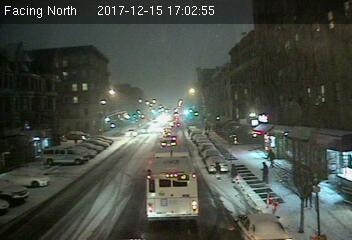bus: (146, 147, 201, 222)
car: (237, 211, 291, 240), (205, 155, 231, 173), (159, 139, 178, 148)
pedestrian: (260, 160, 270, 184), (228, 163, 240, 182)
